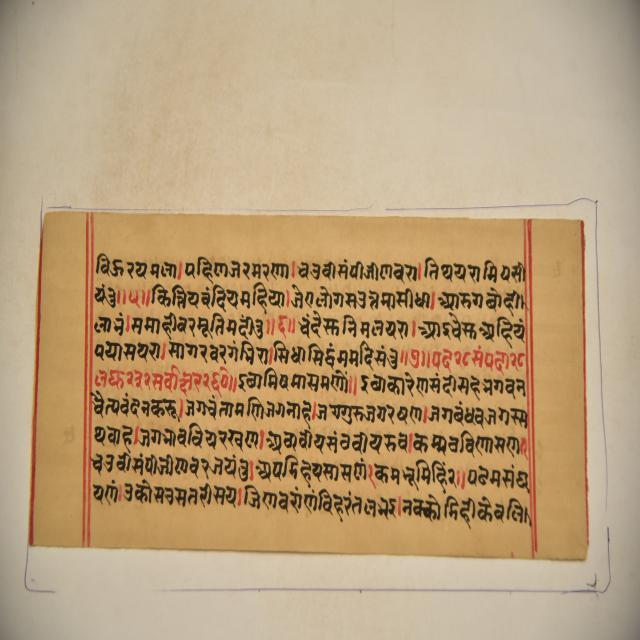text_paragraph: (29, 210, 587, 560)
